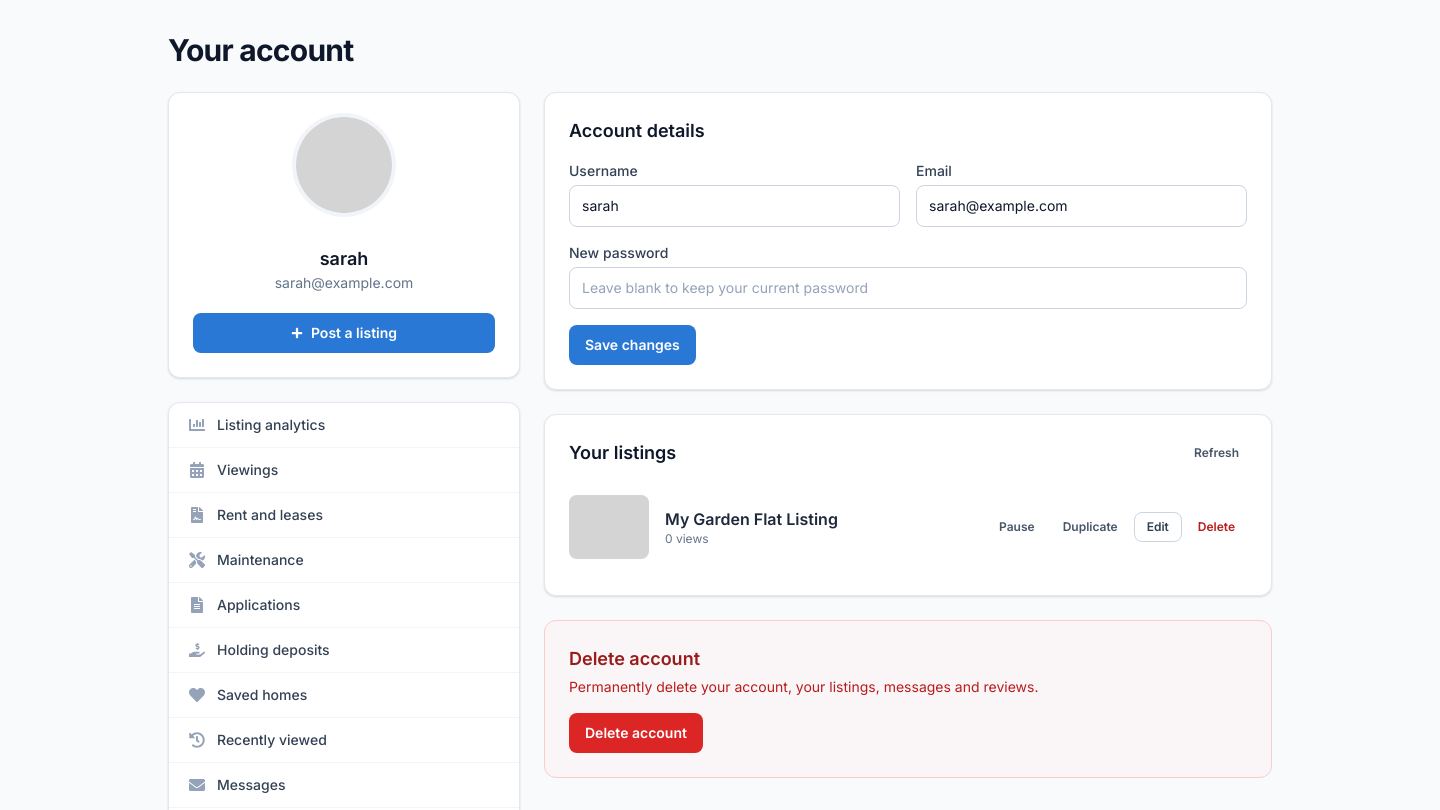
Test: Profile page › pauses and reactivates a listing
Check: the text "My Garden Flat Listing" is shown, box top-left (665, 509), bottom-right (838, 529)
Step 1. Click the button "Pause" → (1017, 527), box top-left (987, 512), bottom-right (1047, 542)
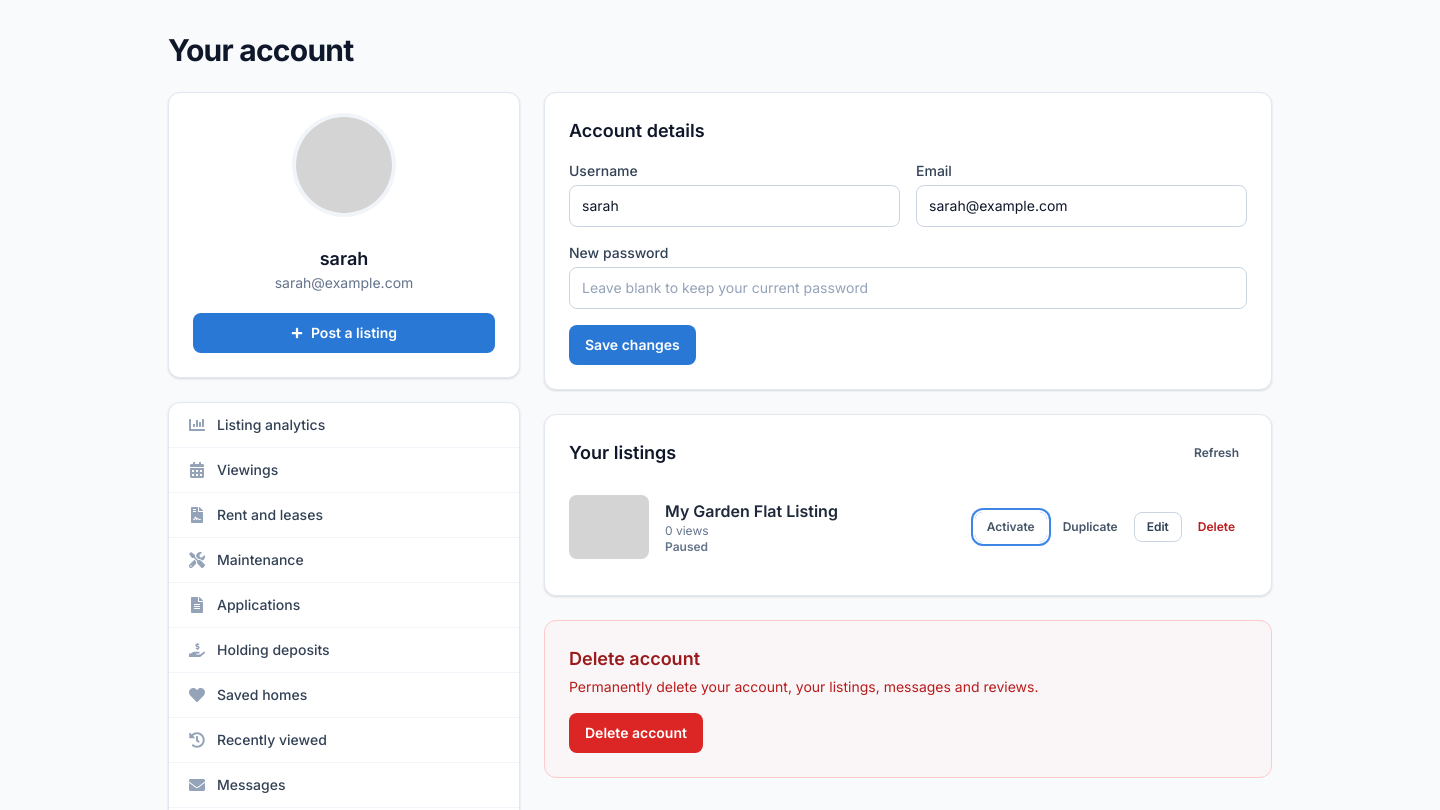
Check: the text "Paused" is shown, box top-left (665, 539), bottom-right (708, 554)
Check: the button "Activate" is shown, box top-left (975, 512), bottom-right (1047, 542)
